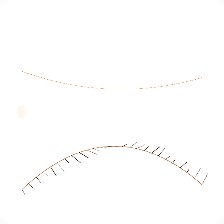hemorrhage_spot: (44, 75, 145, 156)
